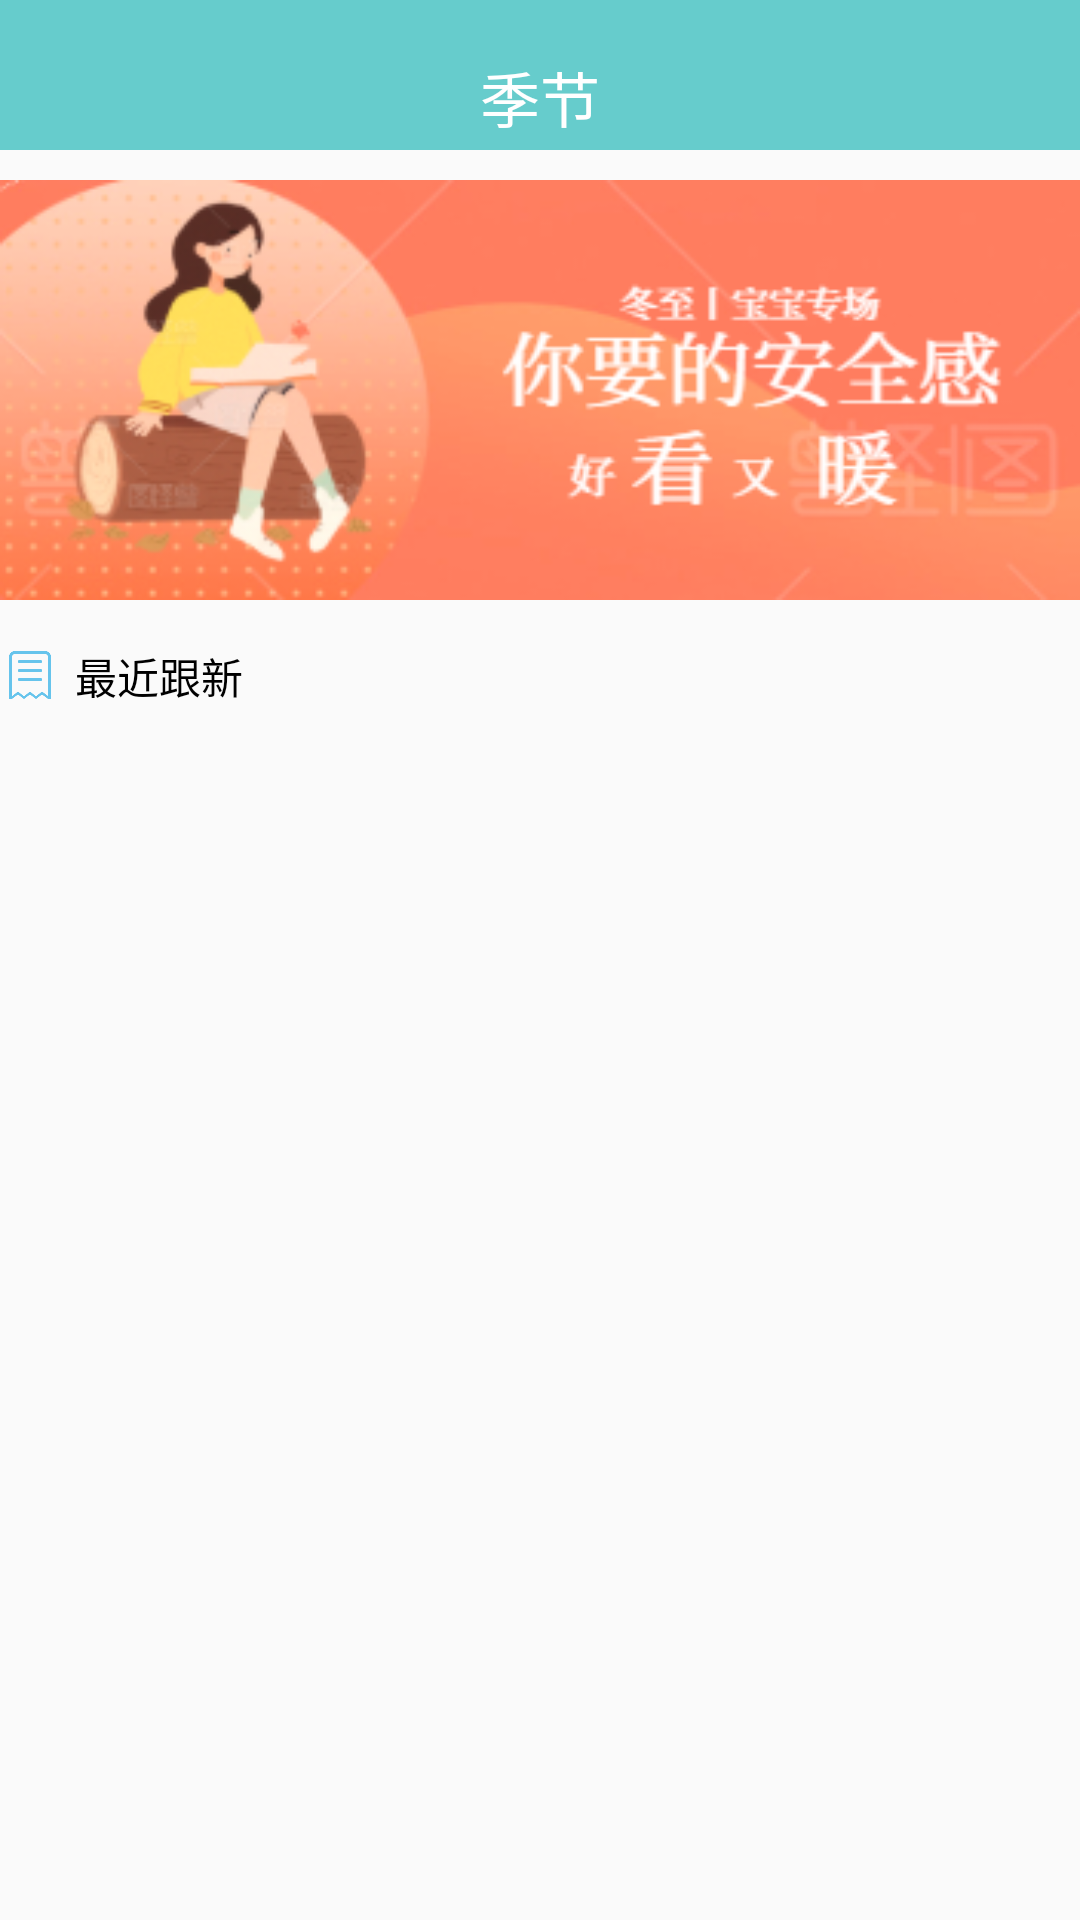

Icon click points for this 1080px x 1920px phone screenshot, format point (x, y):
note: point (30, 675)
